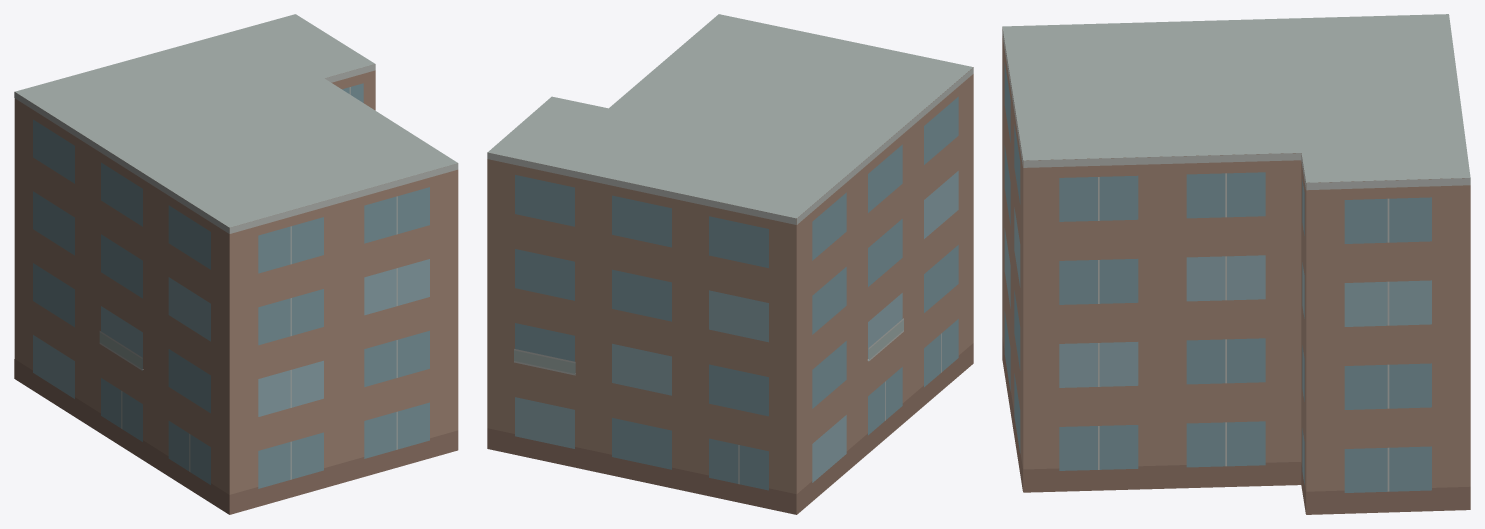
Rendered from survey-upis-33000976.glb.
The picture shows the model from 3 angles, left to right: view 1: azimuth 30°, elevation 25°; view 2: azimuth 150°, elevation 25°; view 3: azimuth 270°, elevation 25°; orthographic projection. The views are drawn at different scales.
Parts seen in each view (by area): view 1: survey-upis-33000976.tmp; view 2: survey-upis-33000976.tmp; view 3: survey-upis-33000976.tmp.
Part boxes in pixels (x1,y1,x2,y2): survey-upis-33000976.tmp: [14, 14, 458, 514]; survey-upis-33000976.tmp: [487, 14, 973, 514]; survey-upis-33000976.tmp: [1002, 14, 1470, 514].
Size of the model in its own units: 11.95 by 10.95 by 14.01.
